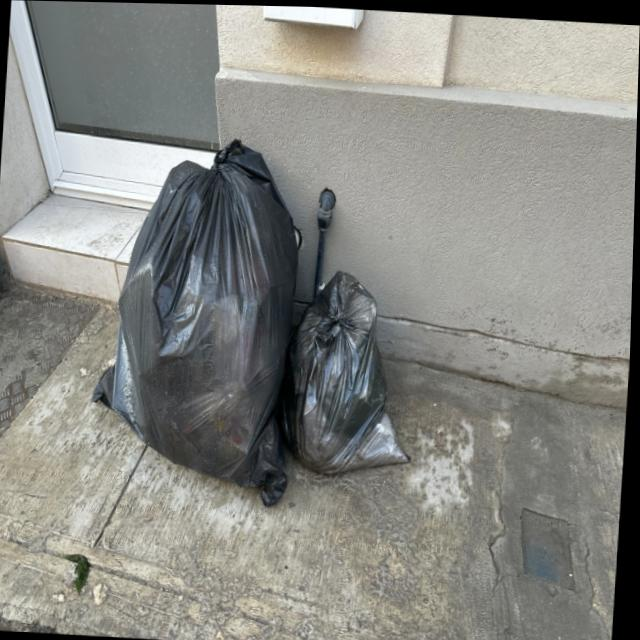Mixed Waste -Black Bags-: (93, 137, 413, 506)
